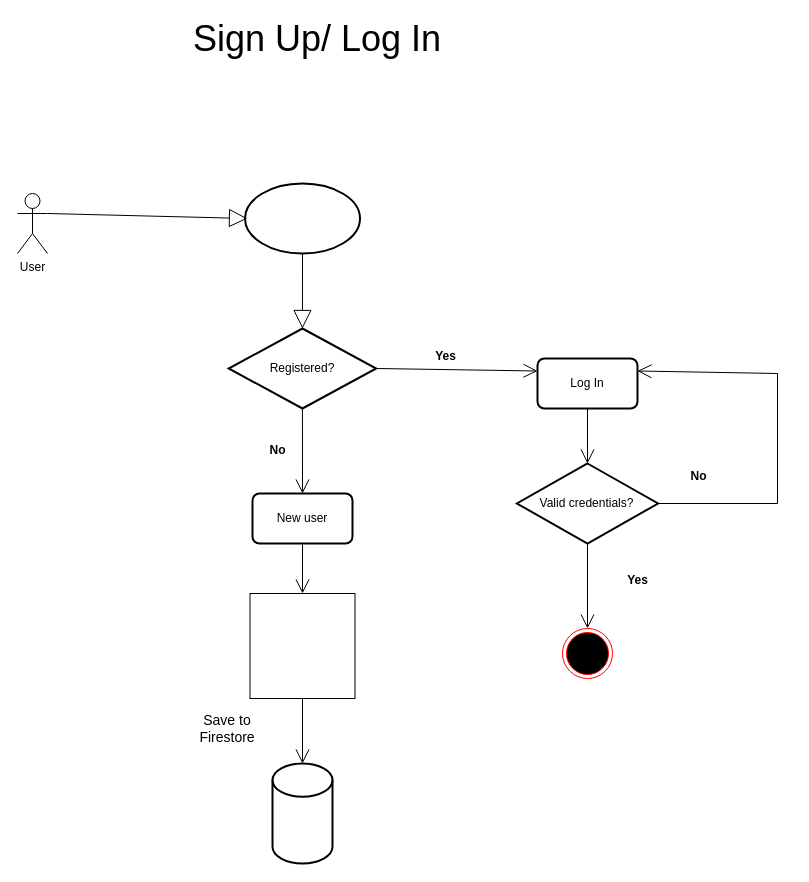
The diagram is 809 pixels wide and 882 high, and some of its shapes have lost their labels. The centre of each missing label's shape, as x and y in pixels:
"Registration" goes at point (302, 645).
"Start" goes at point (302, 218).
